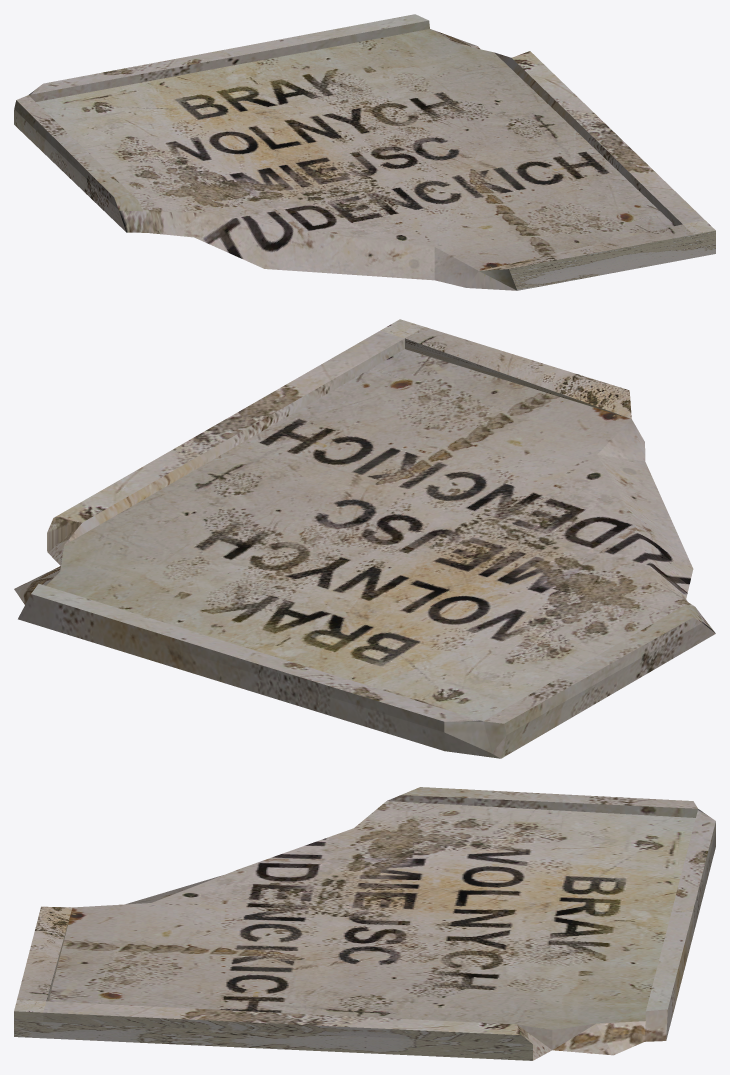
File: Tablica1_brakwolnych.FBX
3 renders of one model, top to bottom at view 1: azimuth 30°, elevation 25°; view 2: azimuth 150°, elevation 25°; view 3: azimuth 270°, elevation 25°, orthographic. The views are drawn at different scales.
Visible parts, largest first — view 1: Box001; view 2: Box001; view 3: Box001.
Boxes of the visible parts, bbox=[...] form: Box001: bbox=[14, 14, 715, 290]; Box001: bbox=[14, 319, 715, 758]; Box001: bbox=[14, 787, 715, 1060].
Bounding box in the file's own units: 4.83 × 0.346 × 5.73.
1 material, 1 textured.
